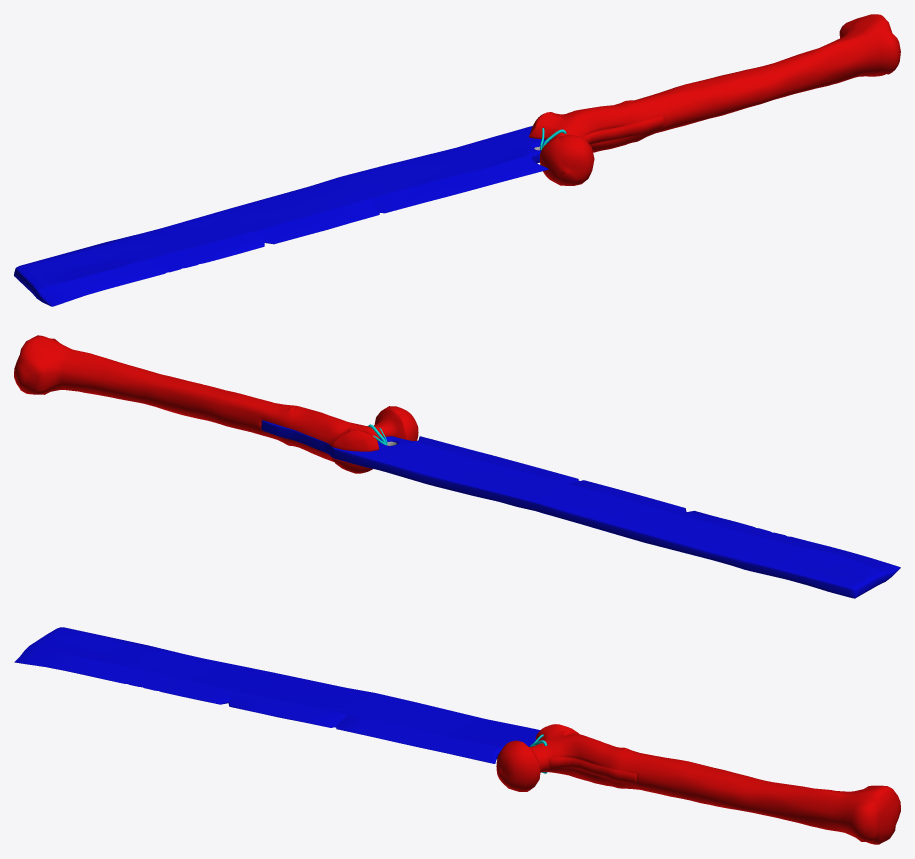
Rendered from bone_knife4_low.fbx.
3 renders of one model, top to bottom at view 1: azimuth 30°, elevation 25°; view 2: azimuth 150°, elevation 25°; view 3: azimuth 330°, elevation 25°, orthographic. The views are drawn at different scales.
Visible parts, largest first — view 1: bone_knife2_low.A; view 2: bone_knife2_low.A; view 3: bone_knife2_low.A.
Part boxes in pixels (<box>): bone_knife2_low.A: <box>14,14,900,306</box>; bone_knife2_low.A: <box>14,335,900,598</box>; bone_knife2_low.A: <box>14,627,900,844</box>.
Size of the model in its own units: 79.94 by 5.41 by 9.99.
